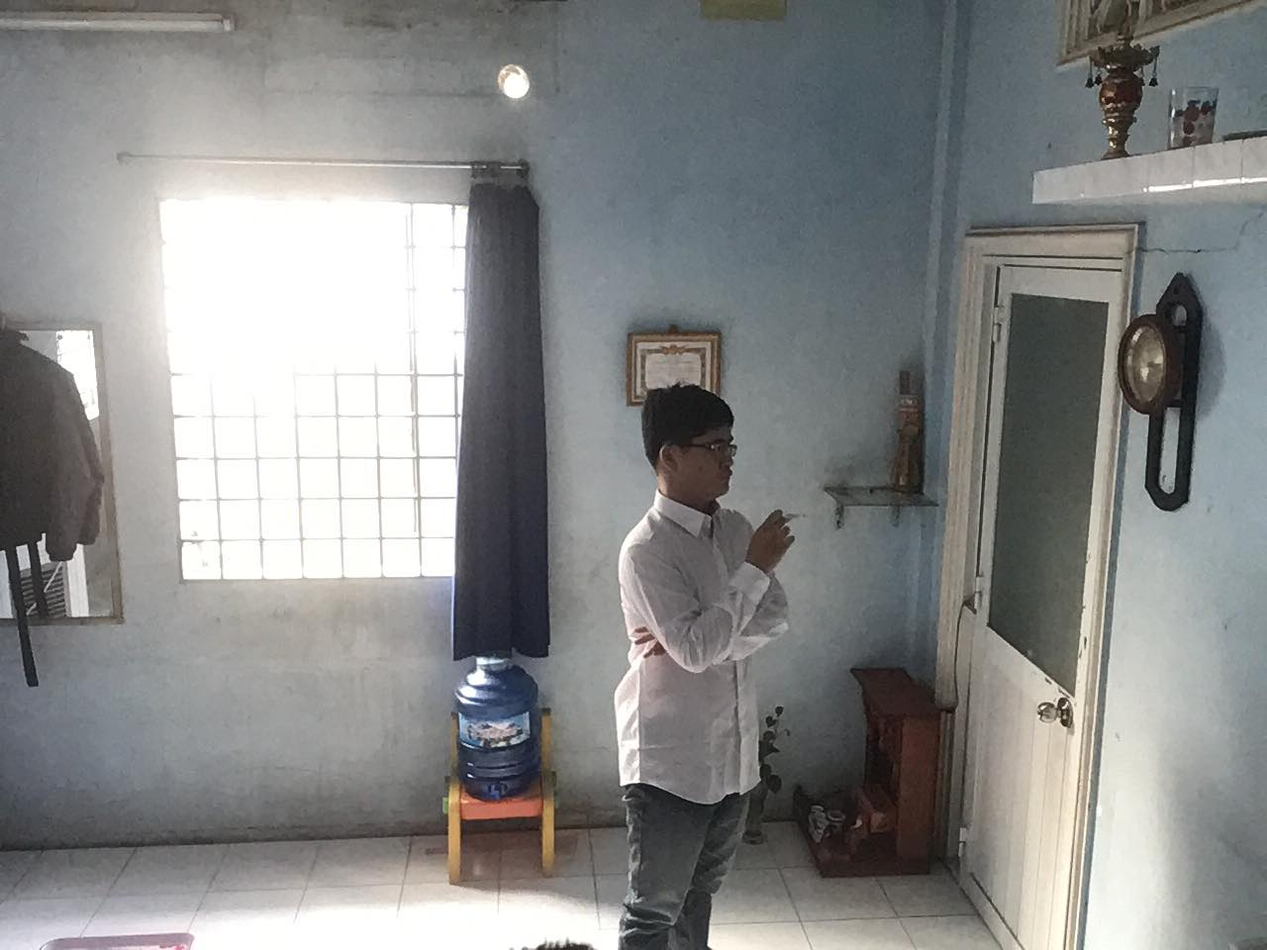person: (570, 348, 862, 950)
